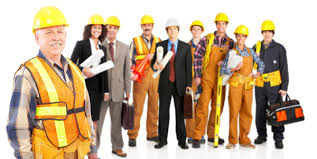Person_wearing_helmet: (30, 4, 69, 37), (134, 11, 155, 28), (209, 11, 234, 25), (81, 14, 104, 28), (161, 15, 182, 30), (260, 17, 276, 34)
